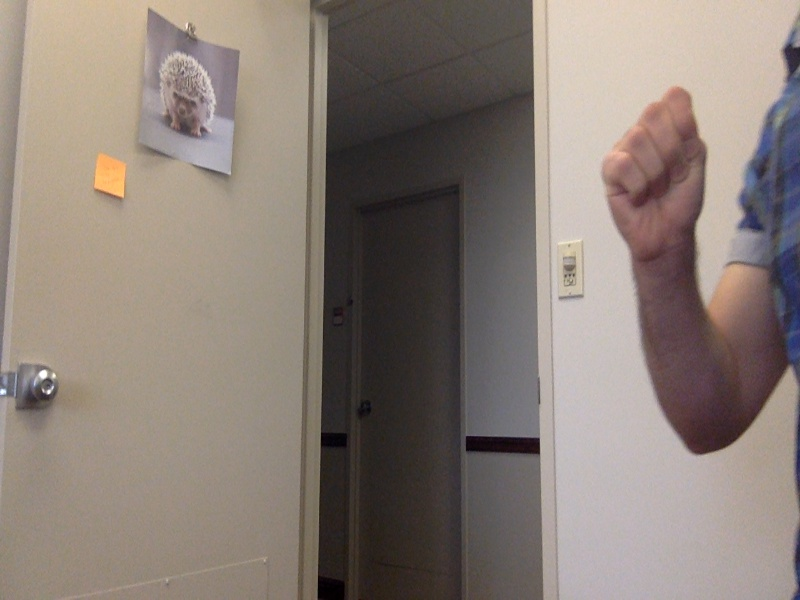0-hand: (604, 85, 714, 263)
